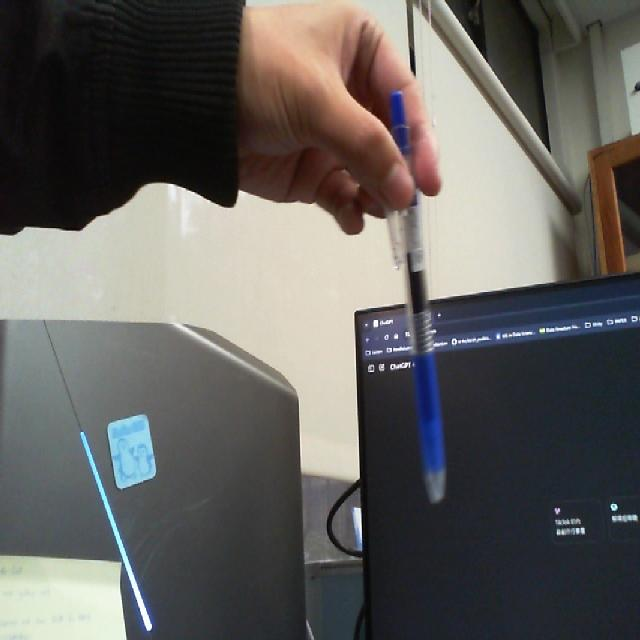Pen: (376, 53, 461, 524)
